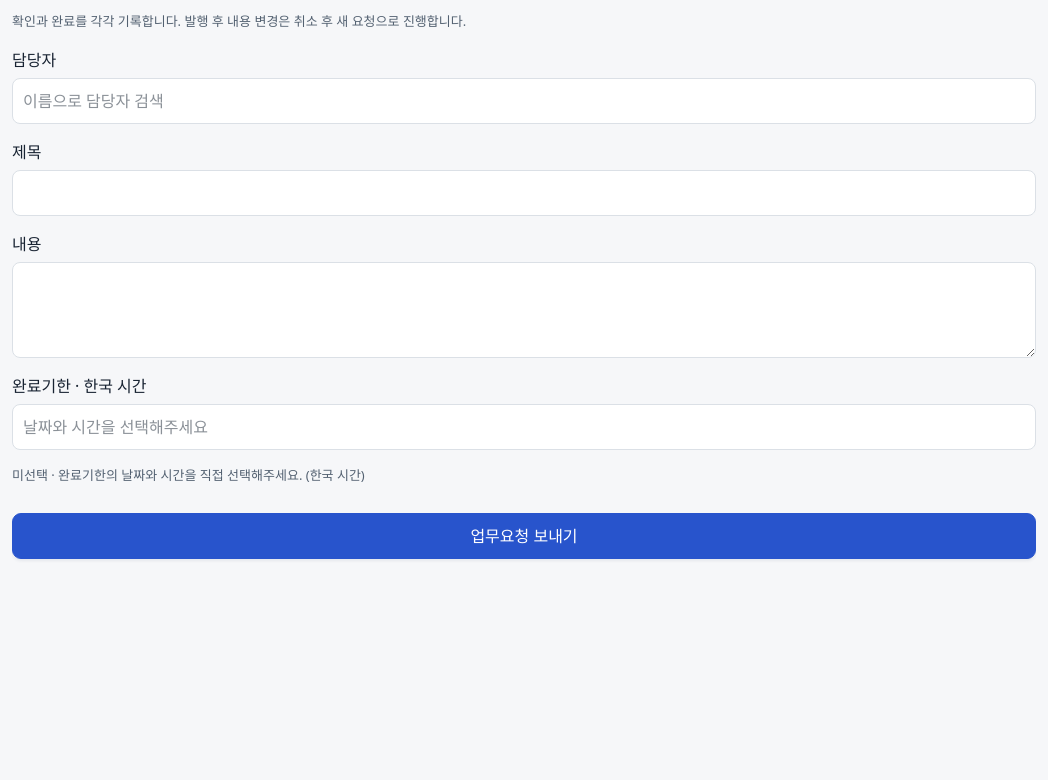
Test: Task Request candidate › composer exposes no announcement expiry or ACK toggle
Focus the field with placeholder "이름으로 담당자 검색" at (524, 100), box [12,78,1036,124]
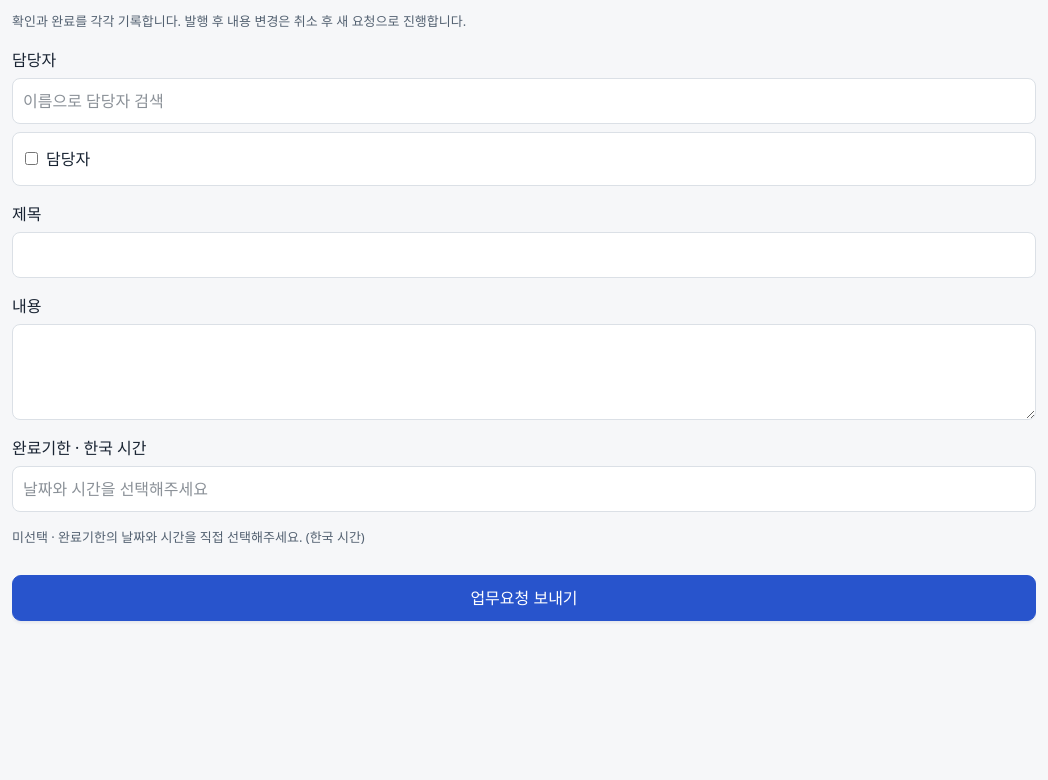
Check: the field labelled "완료기한" is empty, box [12,466,1036,512]
Check: the checkbox labelled "담당자" is shown, box [25,152,38,165]
